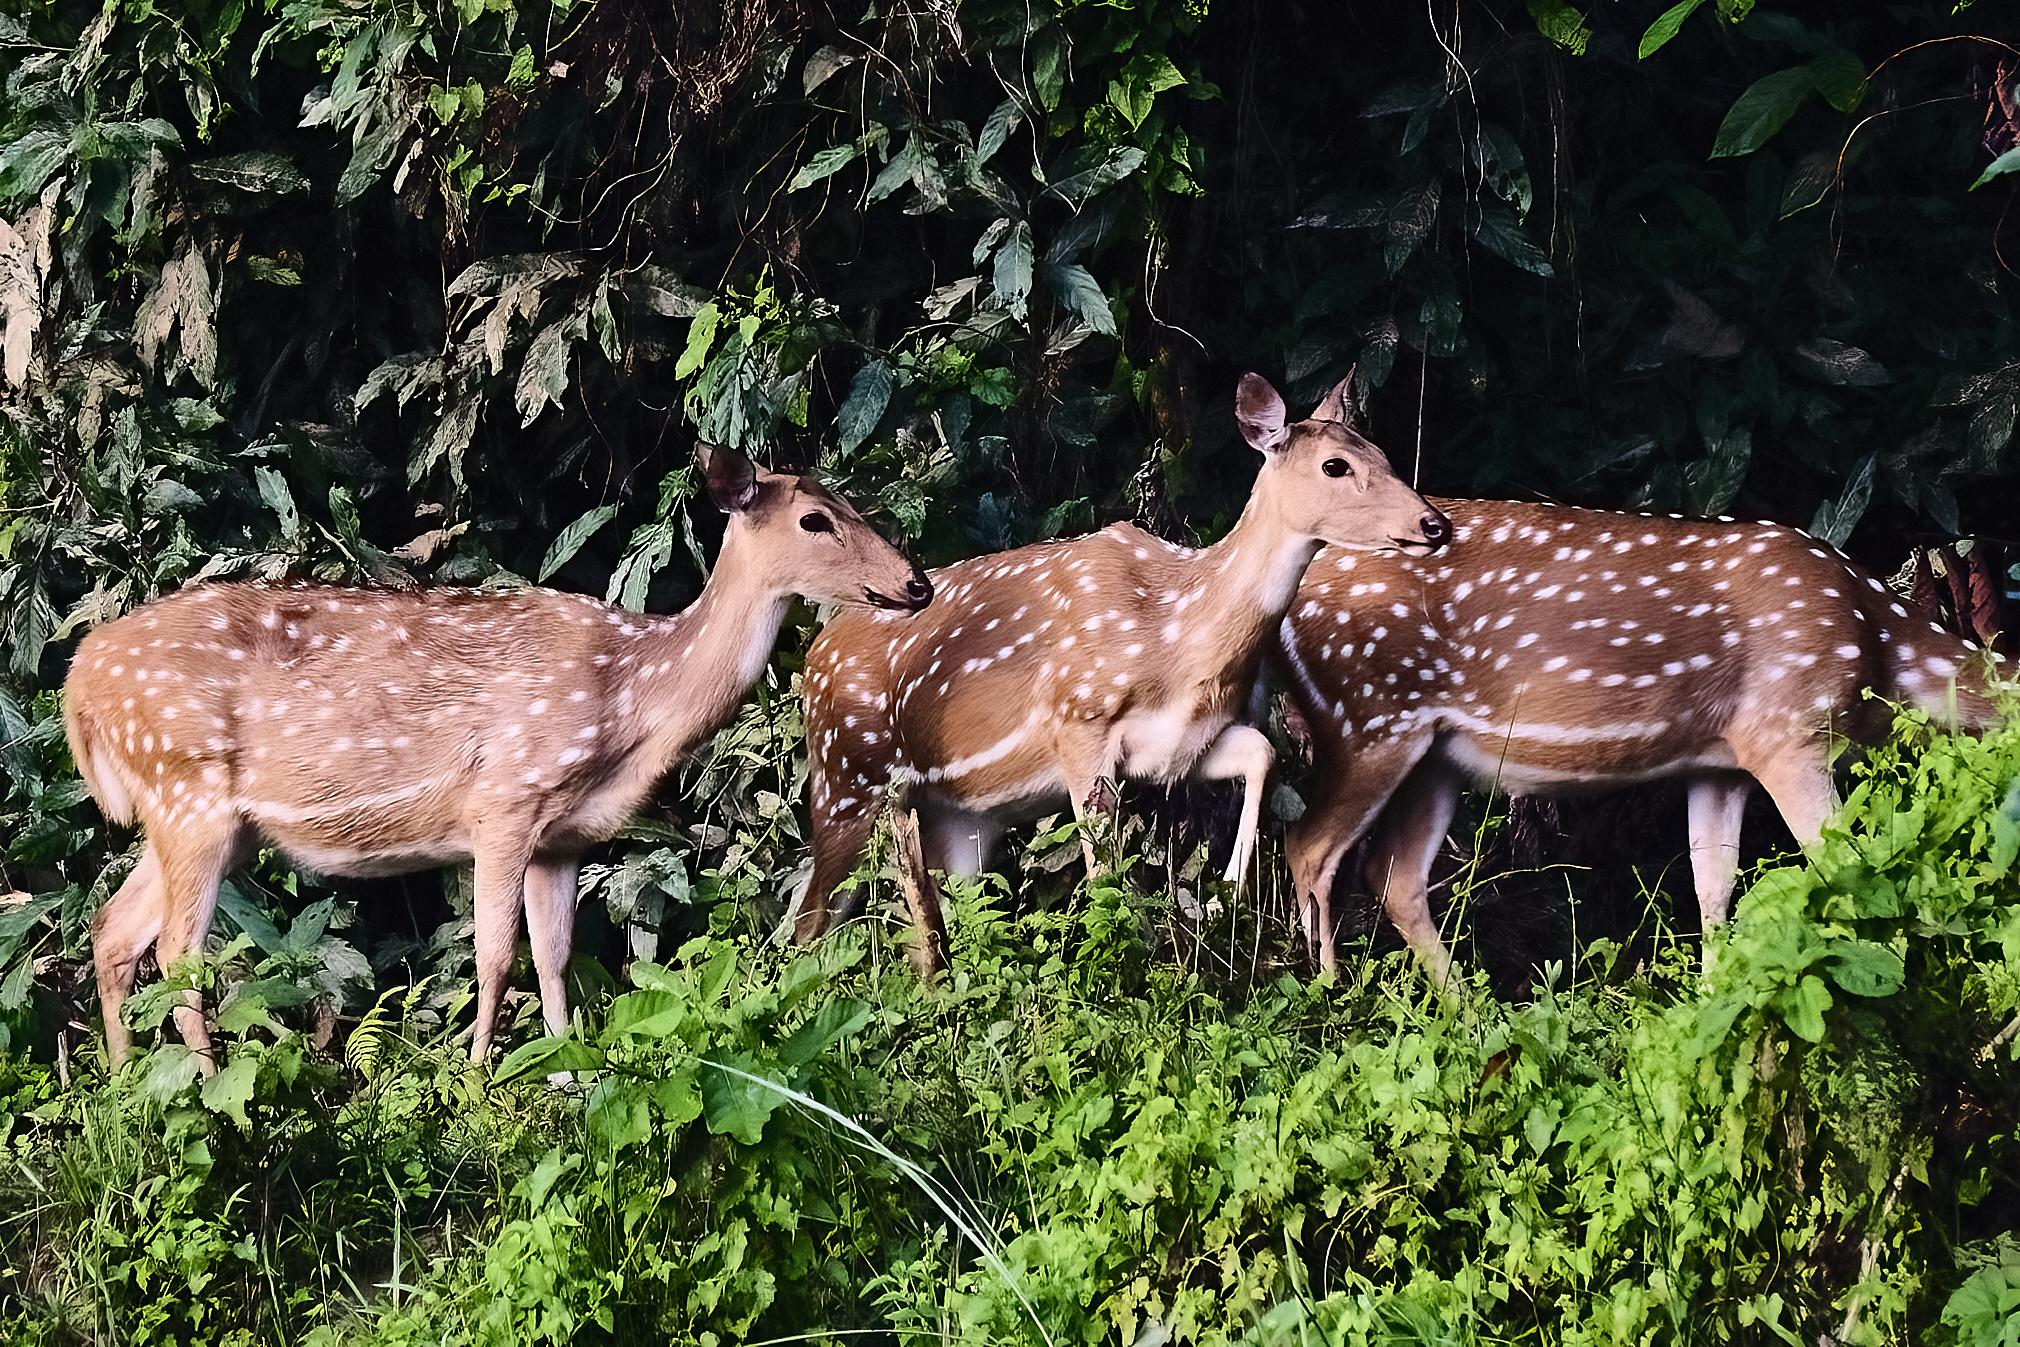Deer: (63, 446, 944, 1061), (795, 374, 1453, 977), (1270, 501, 1994, 970)
